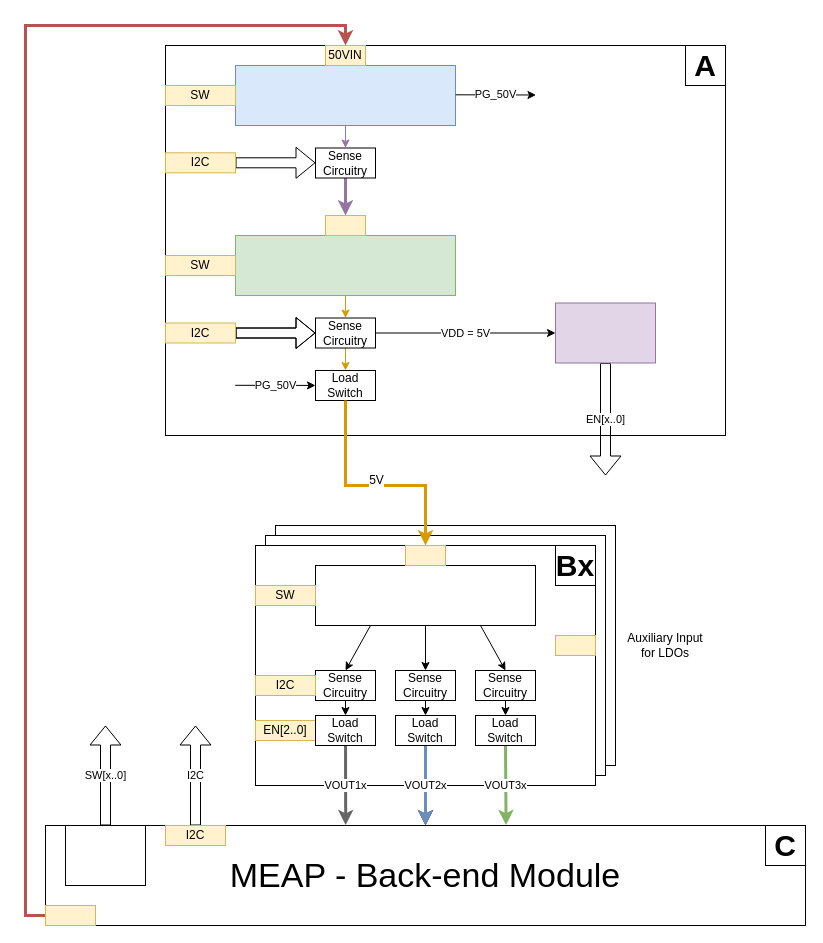
Some shapes in this 823 by 943 pixel diagram are drawn without their labels. The centre of each missing label's shape, as x and y in pixels:
"12-to-5V DC-DC" goes at (345,265).
"12V" goes at (345,225).
"50-to-12V DC-DC" goes at (345,95).
"50VOUT" goes at (70,915).
"DC-DC" goes at (425,595).
"Sequencer" goes at (605,332).
"SYNC OUTPUTS" goes at (105,855).
"VIN" goes at (425,555).
"VIN2" goes at (575,645).
